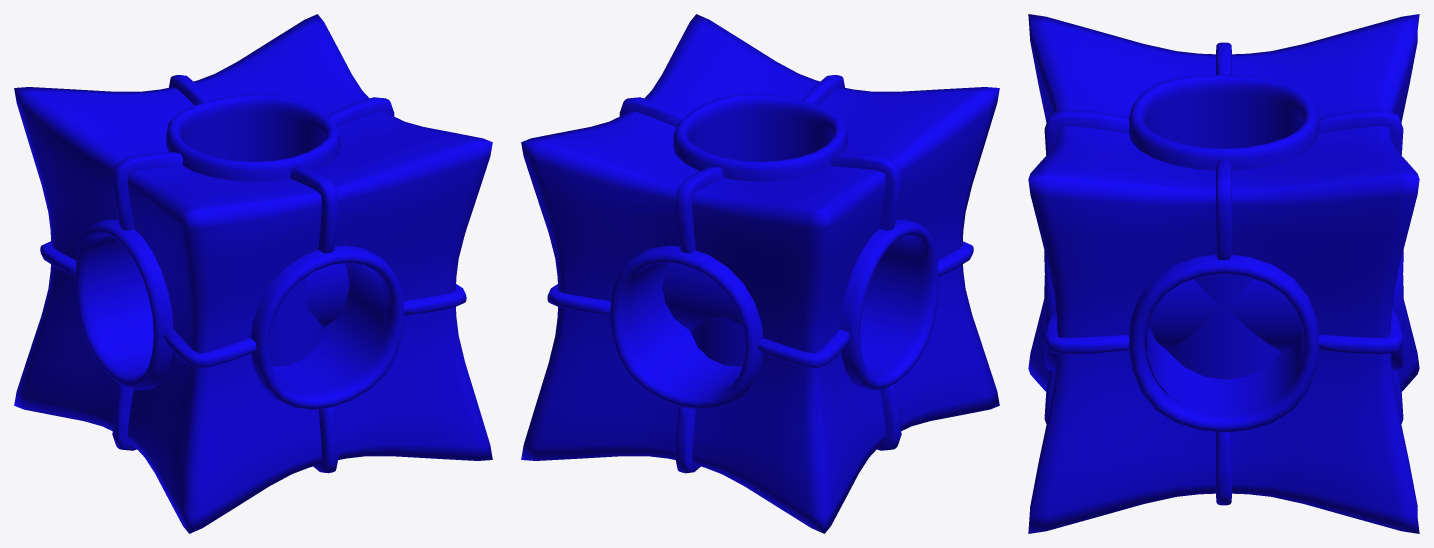
File: bosssgood_low.FBX
The picture shows the model from 3 angles, left to right: view 1: azimuth 30°, elevation 25°; view 2: azimuth 150°, elevation 25°; view 3: azimuth 270°, elevation 25°; orthographic projection. The views are drawn at different scales.
Parts seen in each view (by area): view 1: 1_BODY_Boss_ok; view 2: 1_BODY_Boss_ok; view 3: 1_BODY_Boss_ok.
Part boxes in pixels (<box>): 1_BODY_Boss_ok: <box>14,14,492,533</box>; 1_BODY_Boss_ok: <box>521,14,999,533</box>; 1_BODY_Boss_ok: <box>1028,14,1419,533</box>.
Size of the model in its own units: 71.35 by 71.35 by 71.35.
